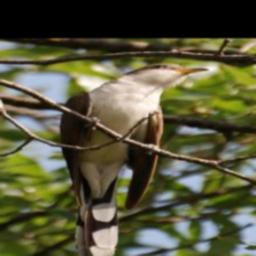Cuckoo: (56, 62, 211, 256)
